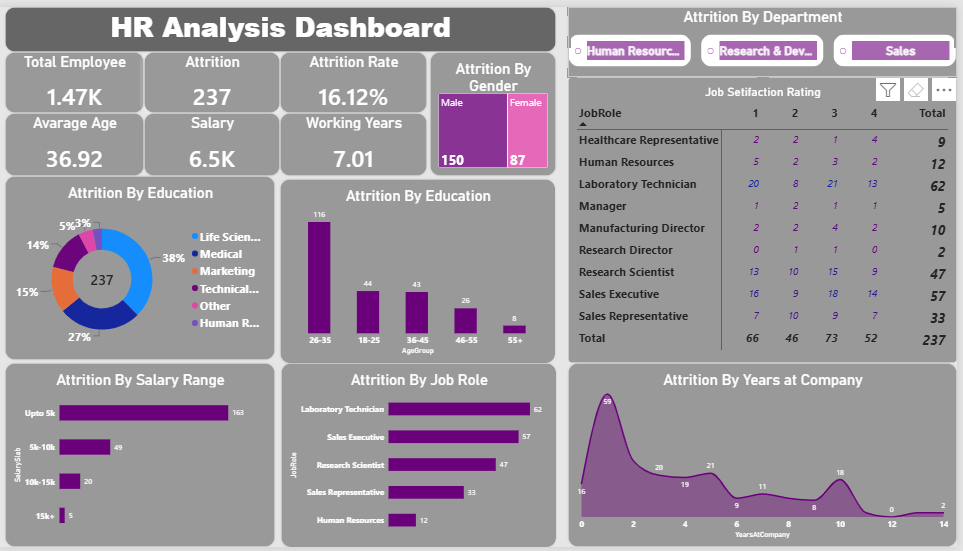

This screenshot's page, from the dashboard's own definition file:
{"tool":"powerbi","page":{"name":"Page 1","canvas":[1920,1080],"ordinal":0},"visuals":[{"type":"cardVisual","title":"Total Employee","fields":{"Data":["CountNonNull(Sheet1.EmpID)"]},"box":[16,90,278,122],"z":0},{"type":"cardVisual","title":"Attrition","fields":{"Data":["Sum(Sheet1.AttritionCount)"]},"box":[294,90,272,122],"z":1},{"type":"cardVisual","title":"Attrition Rate","fields":{"Data":["Sheet1.Attrition Rate"]},"box":[566,90,294,122],"z":2},{"type":"cardVisual","title":"Avarage Age","fields":{"Data":["Avg(Sheet1.Age)"]},"box":[16,212,278,126],"z":3},{"type":"cardVisual","title":"Working Years","fields":{"Data":["Avg(Sheet1.YearsAtCompany)"]},"box":[566,212,294,126],"z":4},{"type":"cardVisual","title":"Salary","fields":{"Data":["Avg(Sheet1.MonthlyIncome)"]},"box":[294,212,272,126],"z":5},{"type":"donutChart","title":"Attrition By Education","fields":{"Category":["Sheet1.EducationField"],"Y":["Sum(Sheet1.AttritionCount)"]},"box":[16,338,540,367.5],"z":6},{"type":"clusteredColumnChart","title":"Attrition By Education","fields":{"Category":["Sheet1.AgeGroup"],"Y":["Sum(Sheet1.AttritionCount)"]},"box":[566,344,551.4,368.6],"z":7},{"type":"pivotTable","title":"Job Setifaction Rating","fields":{"Columns":["Sheet1.JobSatisfaction"],"Rows":["Sheet1.JobRole"],"Values":["Sum(Sheet1.AttritionCount)"]},"box":[1142,140,778,572],"z":8},{"type":"clusteredBarChart","title":"Attrition By Salary Range","fields":{"Category":["Sheet1.SalarySlab"],"Y":["Sum(Sheet1.AttritionCount)"]},"box":[16,712,540,368],"z":10},{"type":"clusteredBarChart","title":"Attrition By Job Role","fields":{"Category":["Sheet1.JobRole"],"Y":["Sum(Sheet1.AttritionCount)"]},"box":[568,712,551.4,368.6],"z":11},{"type":"areaChart","title":"Attrition By  Years at Company","fields":{"Category":["Sheet1.YearsAtCompany"],"Y":["Sum(Sheet1.AttritionCount)"]},"box":[1142,712,778,368],"z":12},{"type":"treemap","title":"Attrition By Gender","fields":{"Group":["Sheet1.Gender"],"Values":["Sum(Sheet1.AttritionCount)"]},"box":[866,90,252,248],"z":13},{"type":"advancedSlicerVisual","title":"Attrition By Department","fields":{"Values":["Sheet1.Department"]},"box":[1142,0,778,140],"z":14},{"type":"textbox","box":[16,0,1102,90],"z":15}]}

Visuals, with their boxes in screenshot pixels (x1, y1, x2, y2), scaled from the page's 1920x1080 canvas onto the 963x551 screenshot:
"Total Employee" cardVisual: bbox(8, 46, 147, 108)
"Attrition" cardVisual: bbox(147, 46, 284, 108)
"Attrition Rate" cardVisual: bbox(284, 46, 431, 108)
"Avarage Age" cardVisual: bbox(8, 108, 147, 172)
"Working Years" cardVisual: bbox(284, 108, 431, 172)
"Salary" cardVisual: bbox(147, 108, 284, 172)
"Attrition By Education" donutChart: bbox(8, 172, 279, 360)
"Attrition By Education" clusteredColumnChart: bbox(284, 176, 560, 364)
"Job Setifaction Rating" pivotTable: bbox(573, 71, 962, 363)
"Attrition By Salary Range" clusteredBarChart: bbox(8, 363, 279, 550)
"Attrition By Job Role" clusteredBarChart: bbox(285, 363, 561, 550)
"Attrition By  Years at Company" areaChart: bbox(573, 363, 962, 550)
"Attrition By Gender" treemap: bbox(434, 46, 561, 172)
"Attrition By Department" advancedSlicerVisual: bbox(573, 0, 962, 71)
textbox: bbox(8, 0, 561, 46)
